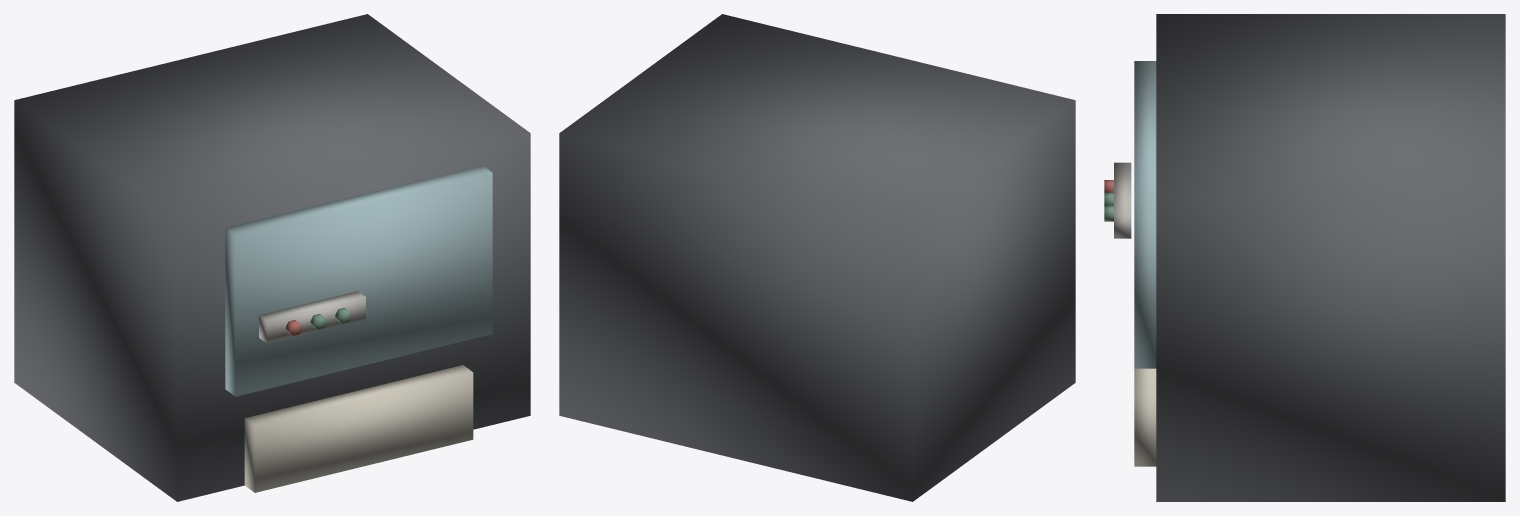
The model's file is terminal_pedestal__deep.glb.
3 renders of one model, left to right at view 1: azimuth 30°, elevation 25°; view 2: azimuth 150°, elevation 25°; view 3: azimuth 270°, elevation 25°, orthographic. The views are drawn at different scales.
Visible parts, largest first — view 1: world; view 2: world; view 3: world.
Boxes of the visible parts, x1,y1,x2,y2 form: world: [14, 14, 530, 501]; world: [559, 14, 1075, 501]; world: [1104, 14, 1505, 501].
Bounding box in the file's own units: 0.55 × 0.42 × 0.5045.
